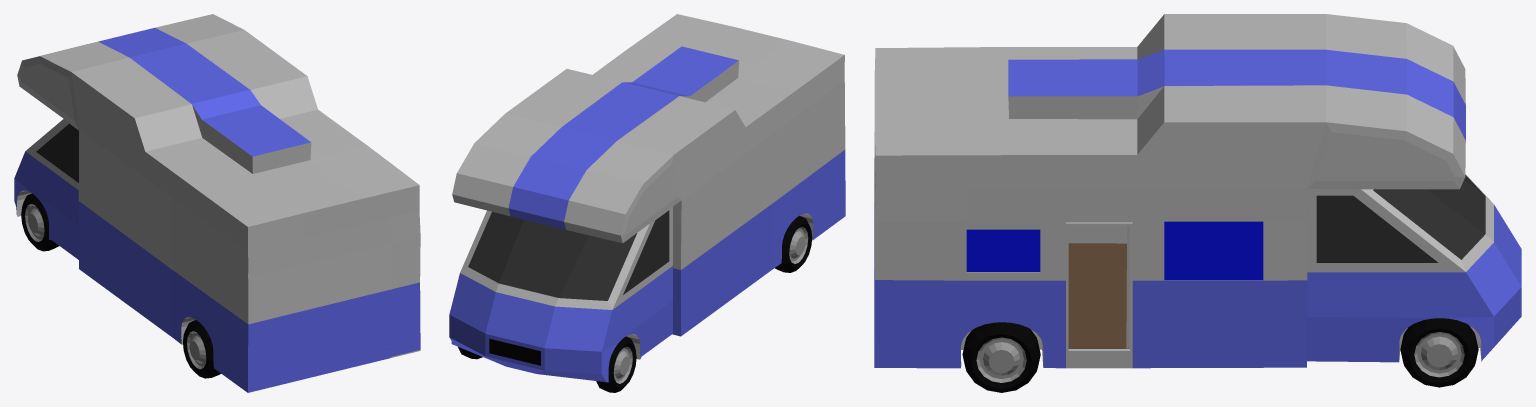
Rendered from trailer.fbx.
3 views of the same model, side by side, from view 1: azimuth 30°, elevation 25°; view 2: azimuth 150°, elevation 25°; view 3: azimuth 270°, elevation 25° (orthographic). The views are drawn at different scales.
Visible parts, largest first — view 1: Cube, Cube.001, Circle, Circle.001; view 2: Cube, Cube.001, Circle.001, Circle; view 3: Cube, Cube.001, Cube.012, Circle, Circle.001, Cube.013, Cube.014.
Part boxes in pixels (x1=…): Cube: x1=17, y1=14, x2=420, y2=392; Cube.001: x1=14, y1=119, x2=78, y2=259; Circle: x1=183, y1=320, x2=220, y2=378; Circle.001: x1=21, y1=193, x2=58, y2=251; Cube: x1=452, y1=14, x2=845, y2=336; Cube.001: x1=449, y1=207, x2=672, y2=382; Circle.001: x1=458, y1=336, x2=636, y2=392; Circle: x1=775, y1=215, x2=812, y2=272; Cube: x1=874, y1=14, x2=1465, y2=368; Cube.001: x1=1306, y1=174, x2=1521, y2=362; Cube.012: x1=1164, y1=221, x2=1263, y2=280; Circle: x1=962, y1=322, x2=1040, y2=392; Circle.001: x1=1400, y1=318, x2=1478, y2=387; Cube.013: x1=966, y1=229, x2=1040, y2=271; Cube.014: x1=1066, y1=222, x2=1132, y2=353.
Bounding box in the file's own units: 337 × 382 × 820.
